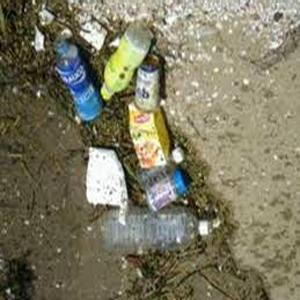Plastic: (90, 207, 214, 259), (100, 19, 151, 100), (55, 39, 104, 122)
